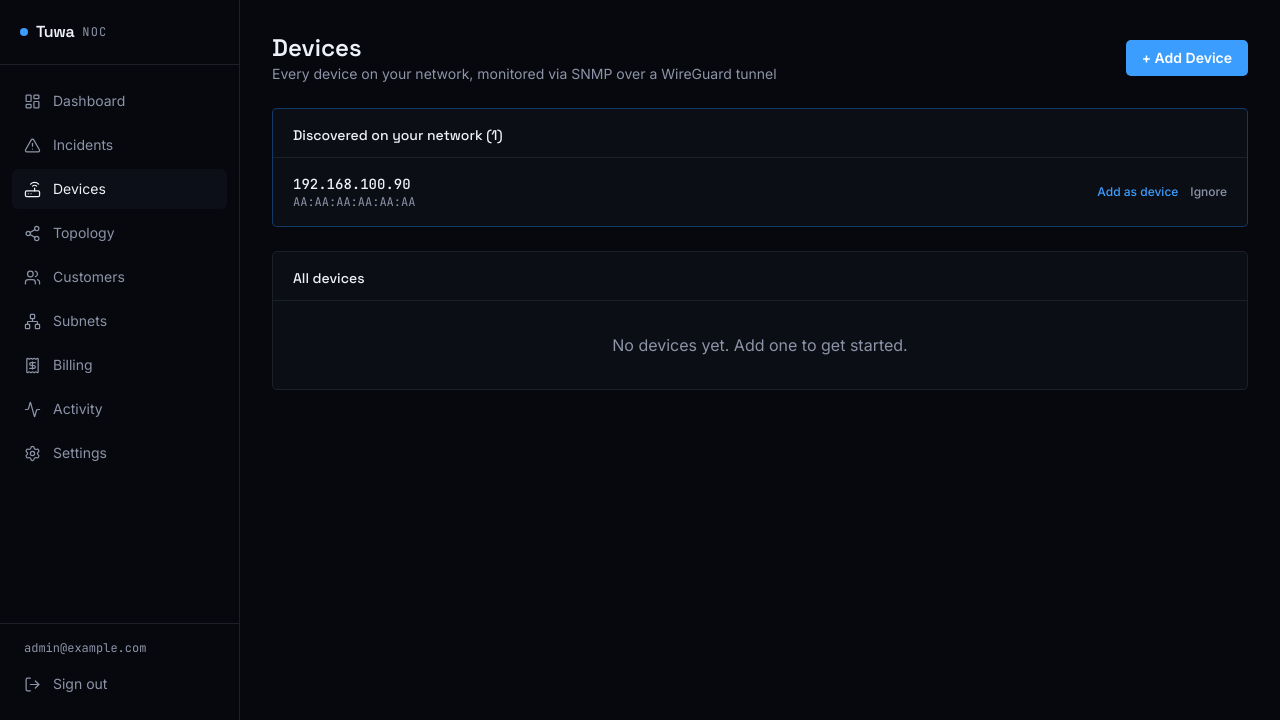
Test: Devices › ignoring a discovered device removes it from the list
Expected: the text "192.168.100.90" is shown, [293,174,415,194]
Click the button "Ignore": coordinates (1209, 192) [1190,184,1227,200]
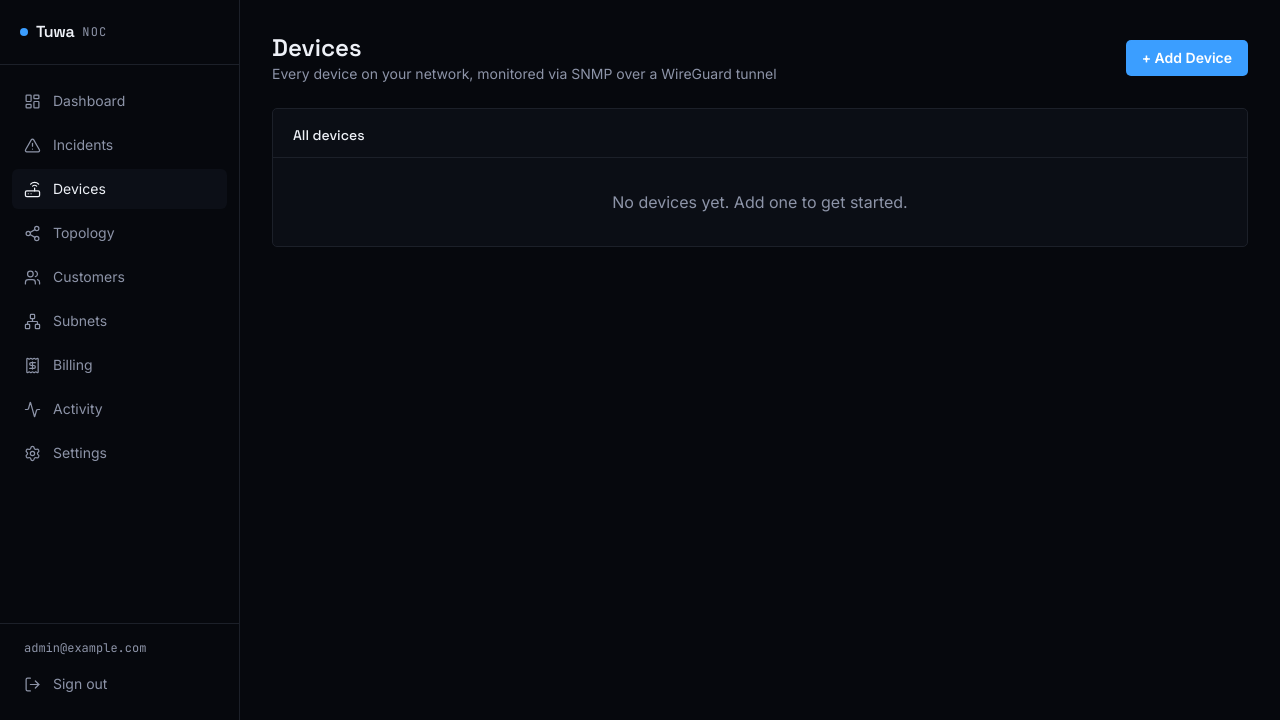
Now the text "192.168.100.90" is gone
